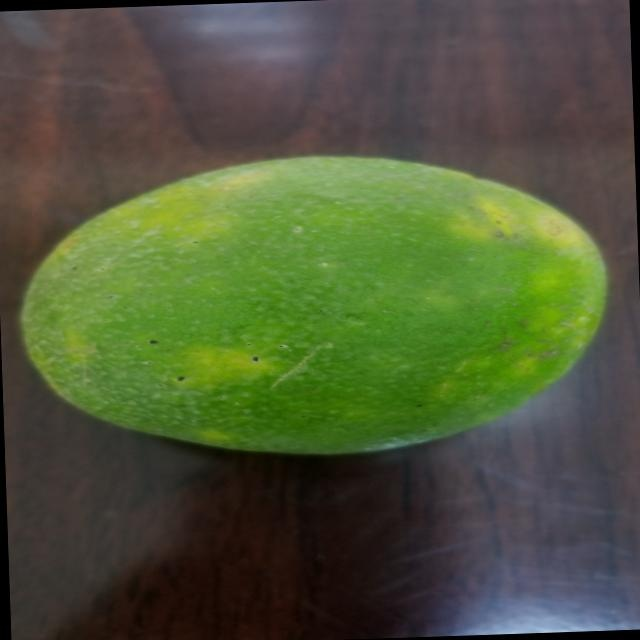agrume: (0, 119, 632, 487)
